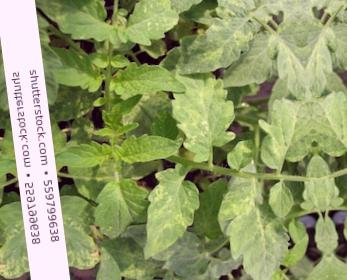Tomato leaf mosaic virus: (166, 46, 243, 164), (215, 169, 295, 280), (131, 162, 207, 262), (211, 28, 289, 96), (172, 15, 255, 77), (251, 95, 315, 170), (37, 0, 120, 56), (87, 174, 151, 246), (107, 58, 188, 108), (109, 0, 186, 50), (114, 129, 186, 170), (54, 139, 116, 175), (87, 246, 130, 280), (265, 180, 295, 219)
